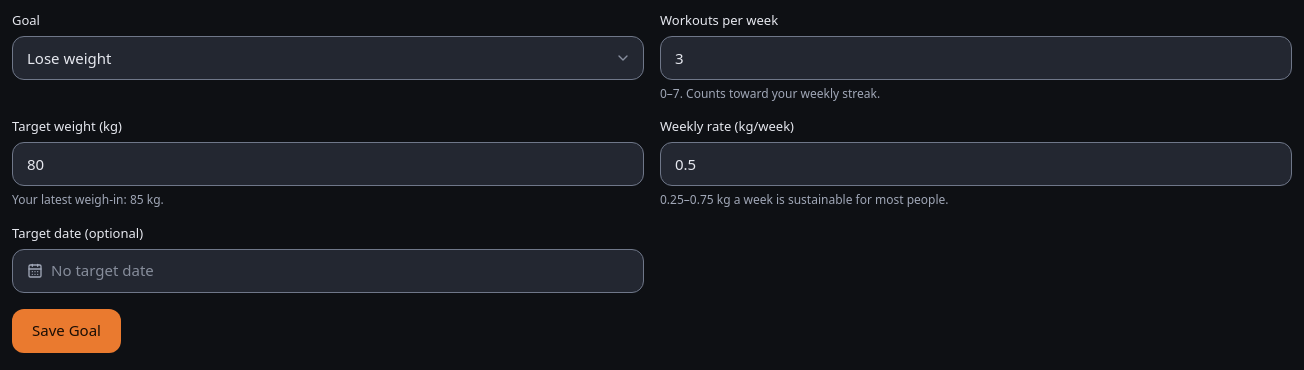
Test: GoalForm › limits workouts per week to 0–7
This screenshot has width=1304, height=370.
Replace the text in the number field labelled "Workouts per week" with "9" at (976, 58), box left=660, top=36, right=1292, bottom=80
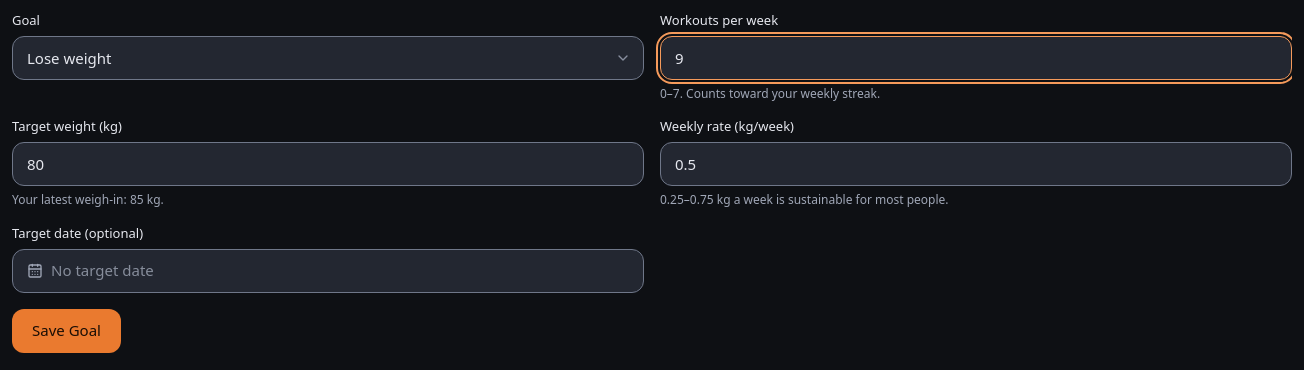
Click the button "Save Goal" at (66, 331), box left=12, top=309, right=121, bottom=353
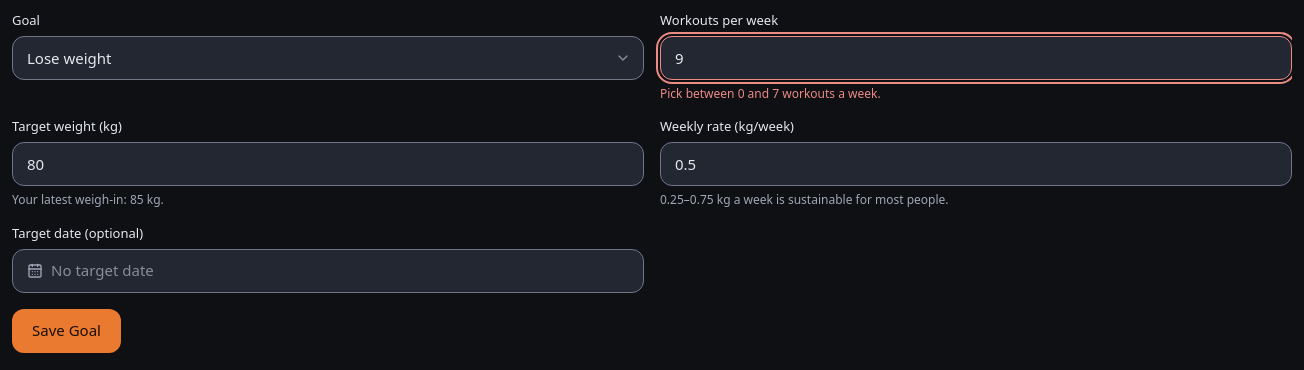
Result: the text "Pick between 0 and 7 workouts a week." is shown at left=660, top=85, right=881, bottom=102
